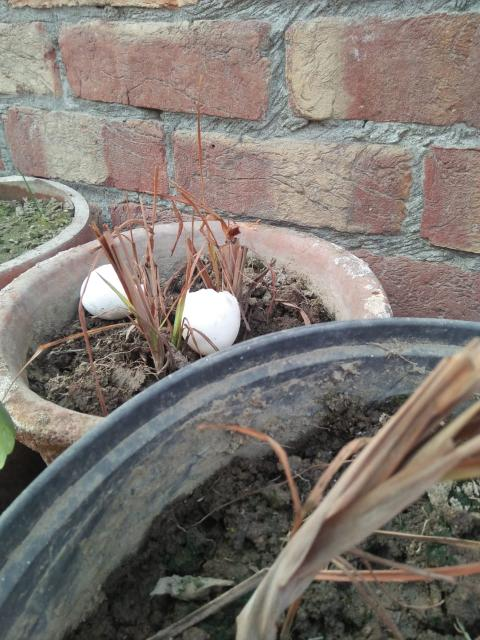Roto: (176, 287, 241, 356), (81, 261, 145, 316)
